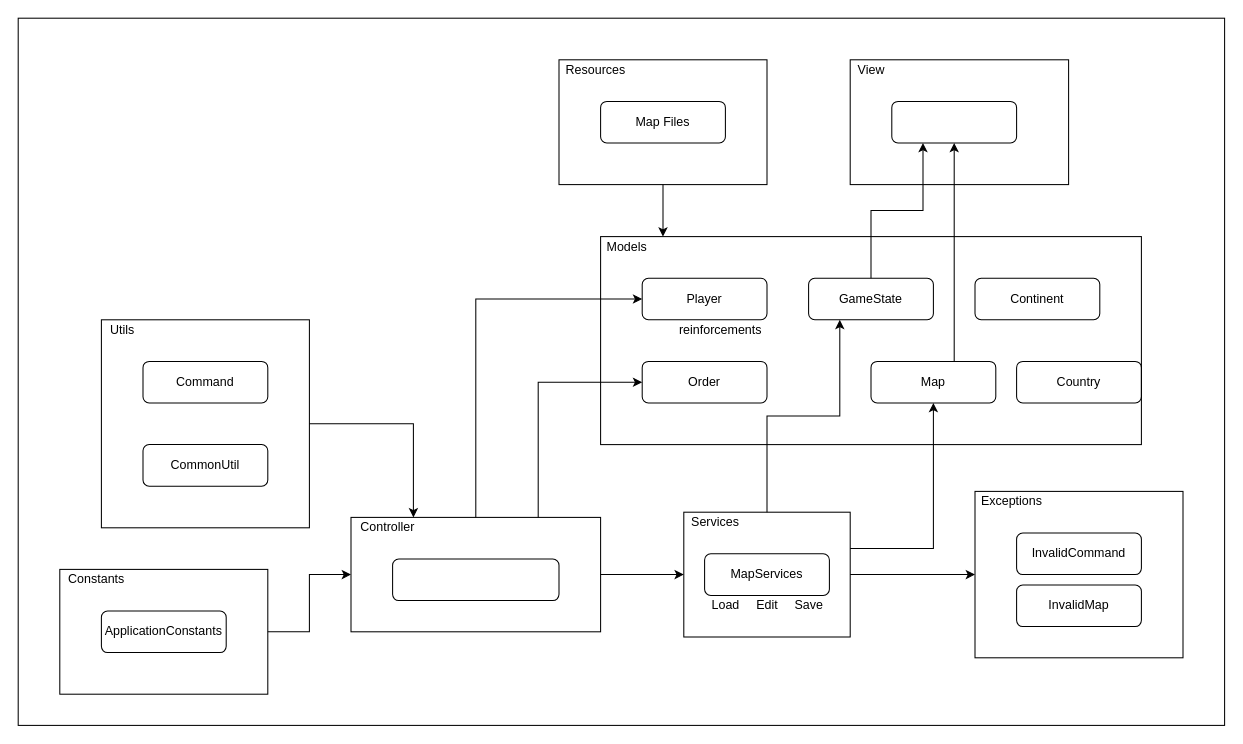
Image size: 1243x744. Some labels were removed from this diagram. The shapes that lost their labels are listed below. From the top down, each one's centre as x and y in pixels, then its label:
At point (954, 121): "MapView".
At point (475, 579): "GameEngineController".
